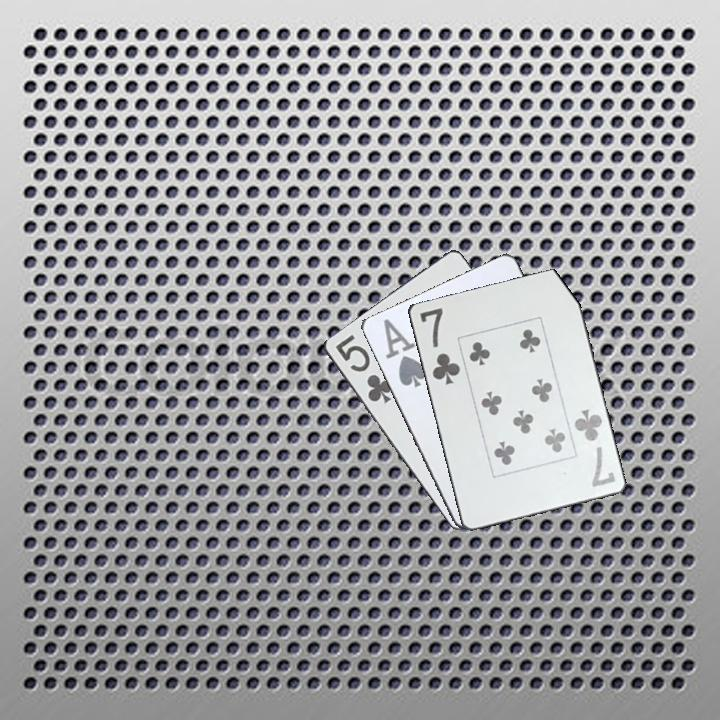5c: (331, 331, 396, 406)
7c: (570, 405, 618, 490), (416, 304, 463, 388)
As: (379, 315, 429, 390)
